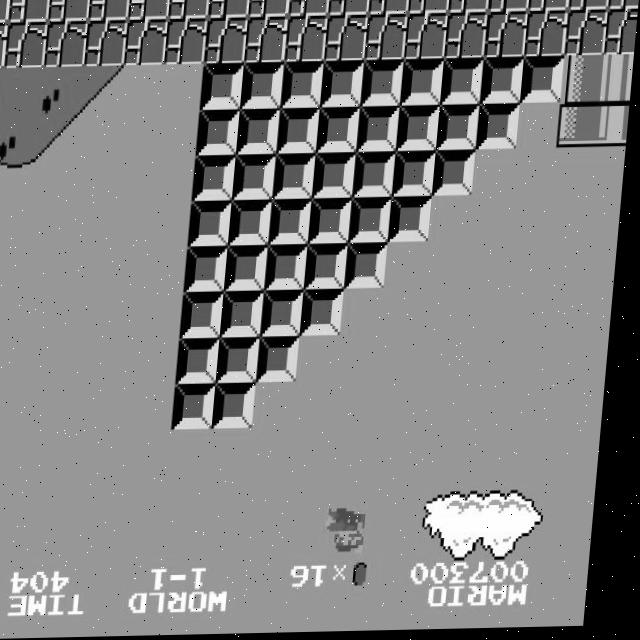11- little_mario: (332, 510, 379, 559)
14- pipe: (561, 58, 606, 105), (602, 57, 635, 104)
15- pipe_head: (558, 103, 603, 150), (599, 103, 632, 149)
17- undestructible_block: (565, 12, 609, 59), (485, 13, 529, 60), (445, 14, 489, 61), (365, 15, 409, 62), (325, 16, 369, 63), (245, 17, 289, 64), (205, 18, 249, 65), (165, 19, 209, 66), (85, 20, 129, 67), (45, 21, 89, 68), (525, 13, 569, 59), (405, 15, 449, 61), (285, 17, 329, 63), (125, 20, 169, 66), (5, 22, 49, 68), (605, 11, 638, 58), (8, 0, 50, 23), (48, 0, 90, 22), (128, 0, 170, 21), (88, 0, 130, 21), (168, 0, 210, 20), (248, 0, 290, 19), (208, 0, 250, 19), (288, 0, 330, 18), (368, 0, 410, 17), (328, 0, 370, 17), (408, 0, 450, 16), (448, 0, 490, 15), (528, 0, 570, 14), (488, 0, 530, 14), (568, 0, 610, 13), (0, 23, 9, 69), (608, 0, 640, 12), (0, 1, 11, 23)
9- hard_block: (481, 59, 526, 106), (438, 105, 483, 152), (441, 60, 486, 107), (398, 106, 443, 153), (358, 107, 403, 154), (361, 61, 406, 108), (321, 62, 366, 109), (278, 108, 323, 155), (222, 337, 267, 384), (238, 109, 283, 156), (241, 63, 286, 110), (182, 338, 227, 385), (201, 64, 246, 111), (521, 59, 566, 105), (478, 105, 523, 151), (401, 61, 446, 107), (318, 108, 363, 154), (262, 337, 307, 383), (281, 63, 326, 109), (198, 110, 243, 156), (352, 198, 396, 245), (312, 199, 356, 246), (266, 291, 310, 338), (226, 292, 270, 339), (232, 200, 276, 247), (192, 201, 236, 248), (435, 152, 479, 198), (392, 198, 436, 244), (349, 245, 393, 291), (355, 153, 399, 199), (306, 291, 350, 337), (315, 154, 359, 200), (269, 246, 313, 292), (272, 200, 316, 246), (219, 384, 263, 430), (229, 247, 273, 293), (235, 155, 279, 201), (186, 293, 230, 339), (195, 156, 239, 202), (395, 153, 439, 198), (309, 246, 353, 291), (275, 155, 319, 200), (179, 385, 223, 430), (189, 248, 233, 293)
